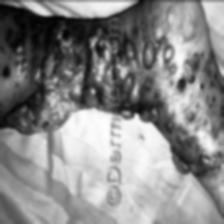Toxin: (38, 37, 86, 95), (140, 41, 160, 67), (122, 64, 132, 92)
